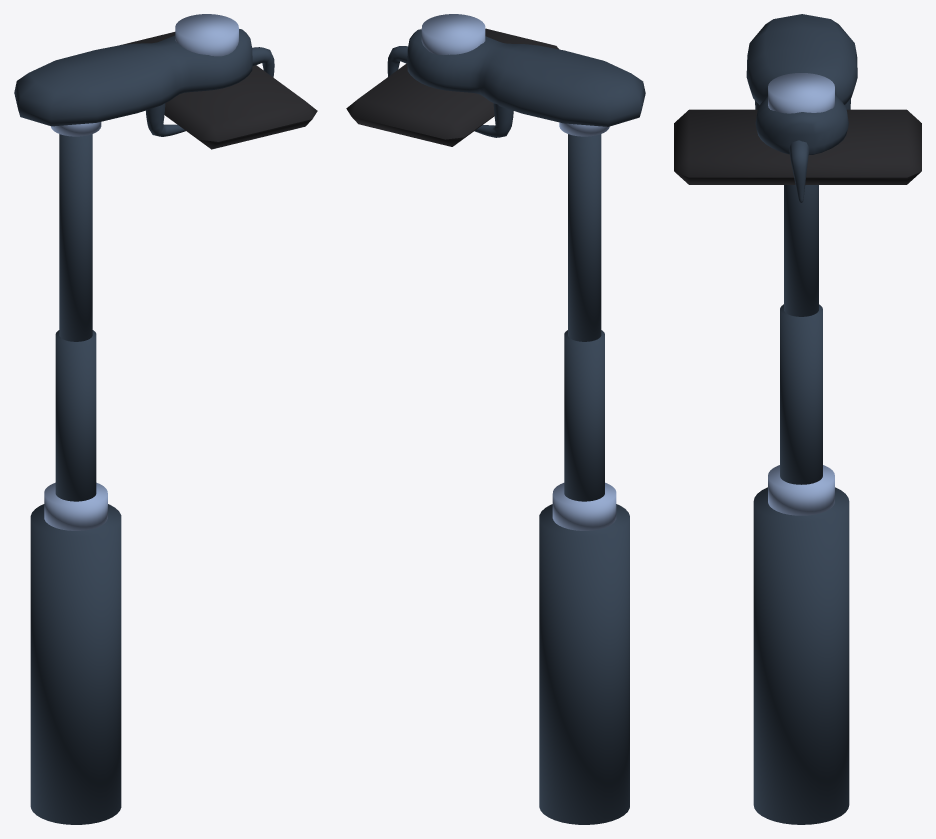
Rendered from selfiestick_and_phone.fbx.
3 views of the same model, side by side, from view 1: azimuth 30°, elevation 25°; view 2: azimuth 150°, elevation 25°; view 3: azimuth 270°, elevation 25° (orthographic). The views are drawn at different scales.
Parts seen in each view (by area): view 1: Cylinder.003, Cube.001; view 2: Cylinder.003, Cube.001; view 3: Cylinder.003, Cube.001.
Boxes of the visible parts, x1,y1,x2,y2 form: Cylinder.003: [14, 14, 274, 824]; Cube.001: [121, 32, 317, 149]; Cylinder.003: [387, 14, 645, 824]; Cube.001: [346, 28, 559, 146]; Cylinder.003: [746, 14, 857, 824]; Cube.001: [674, 109, 921, 184].
Bounding box in the file's own units: 119 × 148 × 416.
